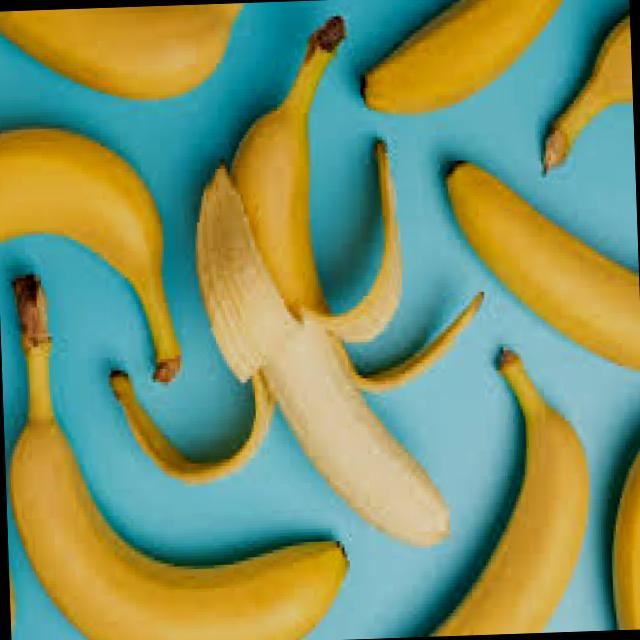Banana: (192, 10, 456, 556), (3, 272, 356, 640), (412, 343, 598, 636), (0, 120, 188, 393), (442, 148, 640, 382), (343, 0, 576, 118), (0, 2, 244, 102), (532, 14, 636, 183), (603, 433, 640, 630)
